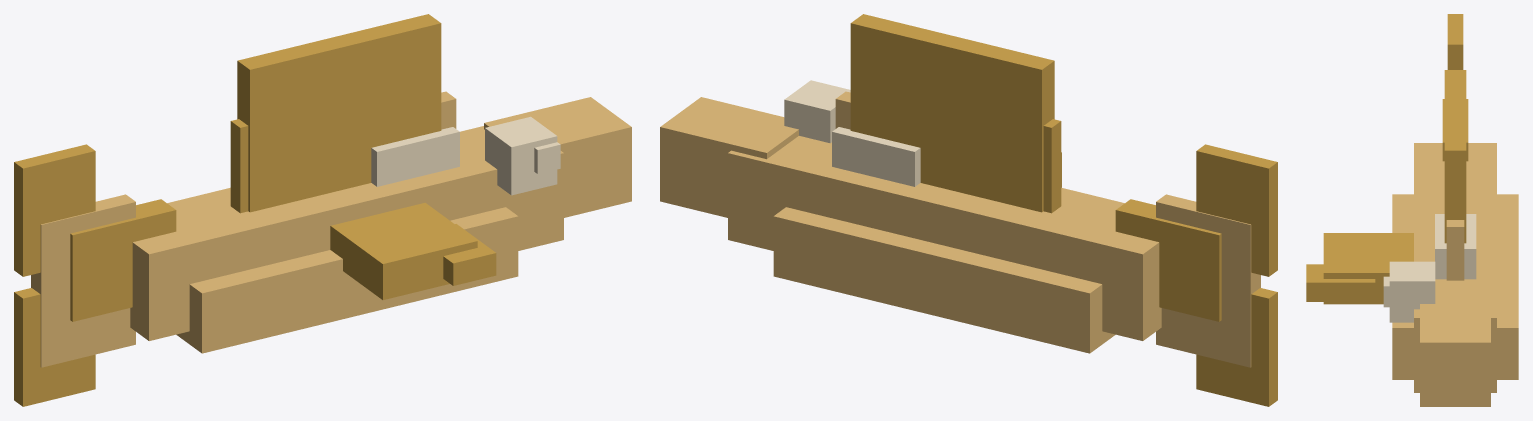
The model's file is fish_dawn_anchovy.glb.
3 views of the same model, side by side, from view 1: azimuth 30°, elevation 25°; view 2: azimuth 150°, elevation 25°; view 3: azimuth 270°, elevation 25° (orthographic). The views are drawn at different scales.
Visible parts, largest first — view 1: FishArt_body, FishArt_dorsal, FishArt_tail, FishArt_pectoral, FishArt_eye, FishArt_specialty; view 2: FishArt_body, FishArt_dorsal, FishArt_tail, FishArt_specialty, FishArt_eye; view 3: FishArt_body, FishArt_pectoral, FishArt_dorsal, FishArt_eye, FishArt_specialty, FishArt_tail.
Boxes of the visible parts, x1,y1,x2,y2 form: FishArt_body: [31, 91, 631, 367]; FishArt_dorsal: [230, 14, 441, 213]; FishArt_tail: [14, 144, 176, 406]; FishArt_pectoral: [330, 202, 496, 299]; FishArt_eye: [485, 116, 560, 195]; FishArt_specialty: [371, 127, 459, 186]; FishArt_body: [660, 91, 1260, 367]; FishArt_dorsal: [850, 14, 1061, 213]; FishArt_tail: [1115, 144, 1277, 406]; FishArt_specialty: [832, 127, 920, 186]; FishArt_eye: [784, 80, 850, 143]; FishArt_body: [1392, 143, 1518, 406]; FishArt_pectoral: [1306, 233, 1413, 304]; FishArt_dorsal: [1444, 70, 1466, 243]; FishArt_eye: [1383, 261, 1435, 322]; FishArt_specialty: [1435, 214, 1476, 279]; FishArt_tail: [1442, 14, 1468, 161].
Bounding box in the file's own units: 0.3091 × 0.1413 × 0.111.
